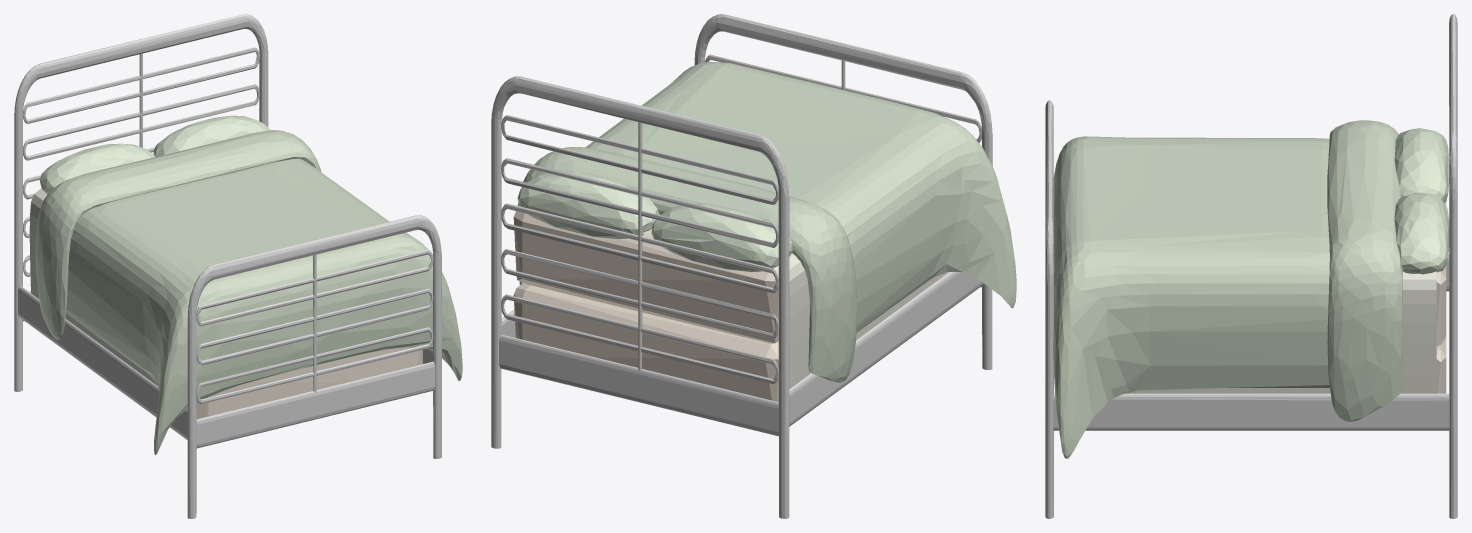
File: sh-bs0-bed1.glb
The picture shows the model from 3 angles, left to right: view 1: azimuth 30°, elevation 25°; view 2: azimuth 150°, elevation 25°; view 3: azimuth 270°, elevation 25°; orthographic projection. The views are drawn at different scales.
Parts seen in each view (by area): view 1: Plane.003_Plane.004, Circle, Cube.009_Cube.010, Cube.007_Cube.004, Plane.004_Plane.005; view 2: Plane.003_Plane.004, Circle, Cube.007_Cube.004, Cube.009_Cube.010, Plane.004_Plane.005; view 3: Plane.003_Plane.004, Circle, Cube.009_Cube.010, Plane.004_Plane.005, Cube.007_Cube.004.
Part boxes in pixels (x1,y1,x2,y2): Plane.003_Plane.004: [35, 130, 462, 454]; Circle: [14, 14, 441, 518]; Cube.009_Cube.010: [39, 115, 270, 194]; Cube.007_Cube.004: [196, 315, 422, 418]; Plane.004_Plane.005: [29, 188, 157, 385]; Plane.003_Plane.004: [517, 61, 1016, 382]; Circle: [491, 14, 992, 518]; Cube.007_Cube.004: [513, 211, 948, 401]; Cube.009_Cube.010: [517, 170, 792, 271]; Plane.004_Plane.005: [519, 205, 937, 388]; Plane.003_Plane.004: [1053, 120, 1402, 458]; Circle: [1045, 14, 1457, 518]; Cube.009_Cube.010: [1394, 128, 1449, 274]; Plane.004_Plane.005: [1135, 271, 1436, 393]; Cube.007_Cube.004: [1056, 161, 1446, 393].
Size of the model in its own units: 0.999 by 1 by 1.
